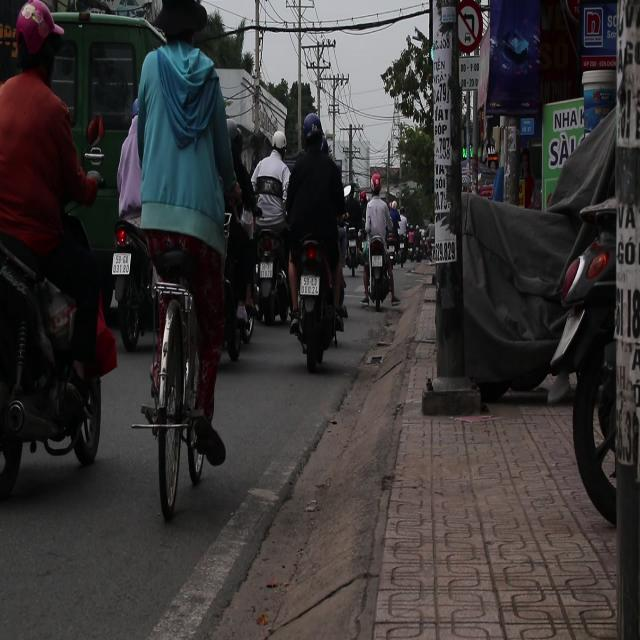motorbike: (0, 256, 111, 470), (289, 238, 338, 373), (251, 208, 294, 329), (342, 221, 364, 279)
